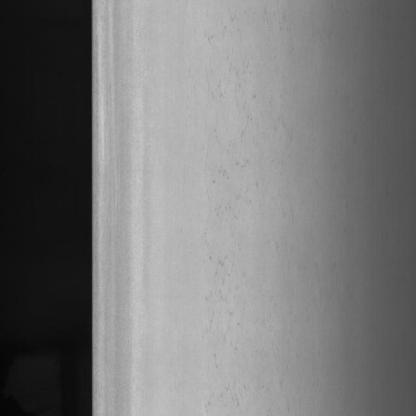silk_spot: (189, 23, 278, 416)
